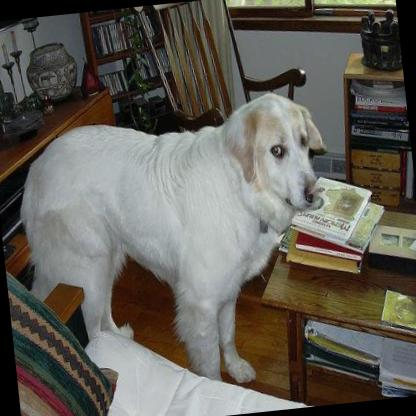Great_Pyrenees: (10, 86, 348, 404)
